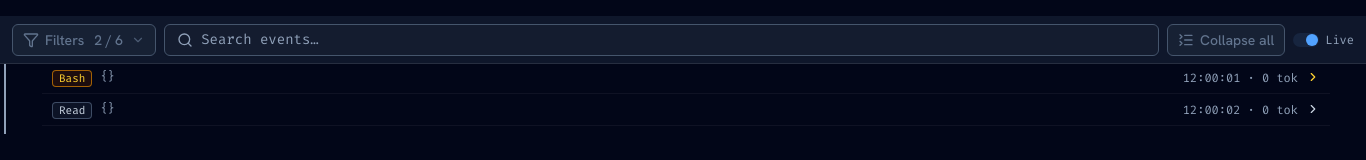
Timeline › filters events by case-insensitive substring against the one-liner
Check: the number of elements with test id "transcript-row" is 2, box [42,62,1330,94]; [42,94,1330,126]
Type "bash" into the search field. click: (674, 40)
box: [201,30,1146,50]
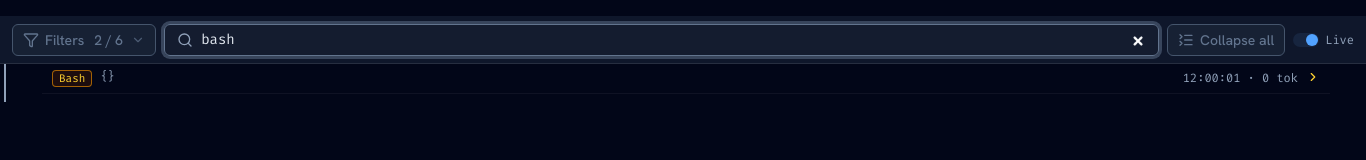
Check: the number of elements with test id "transcript-row" is 1, box [42,62,1330,94]
